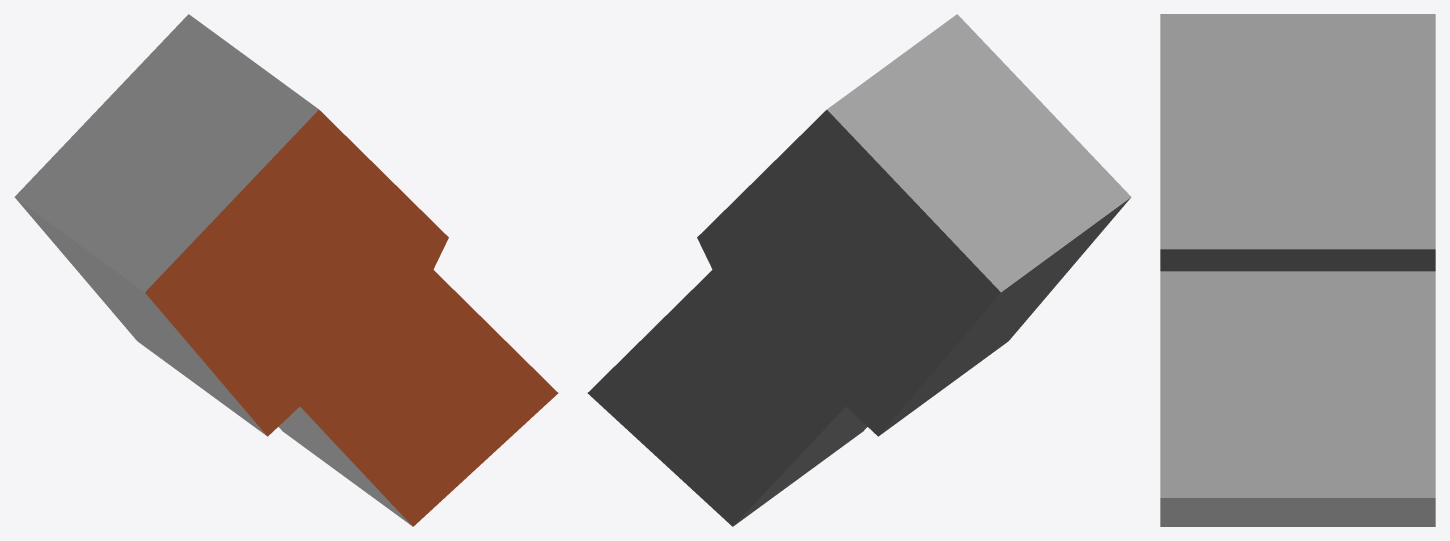
File: construction_1793_assumed_A_Casa_h6m.obj
3 renders of one model, left to right at view 1: azimuth 30°, elevation 25°; view 2: azimuth 150°, elevation 25°; view 3: azimuth 270°, elevation 25°, orthographic. The views are drawn at different scales.
Visible parts, largest first — view 1: construction_1793_assumed_A_Casa; view 2: construction_1793_assumed_A_Casa; view 3: construction_1793_assumed_A_Casa.
Boxes of the visible parts, box(x1,y1,x2,y2) form: construction_1793_assumed_A_Casa: box(14, 14, 558, 526); construction_1793_assumed_A_Casa: box(587, 14, 1131, 526); construction_1793_assumed_A_Casa: box(1160, 14, 1435, 526).
Bounding box in the file's own units: 10.98 × 11.18 × 6.
